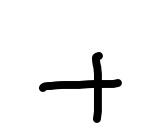plus: (40, 53, 121, 120)
